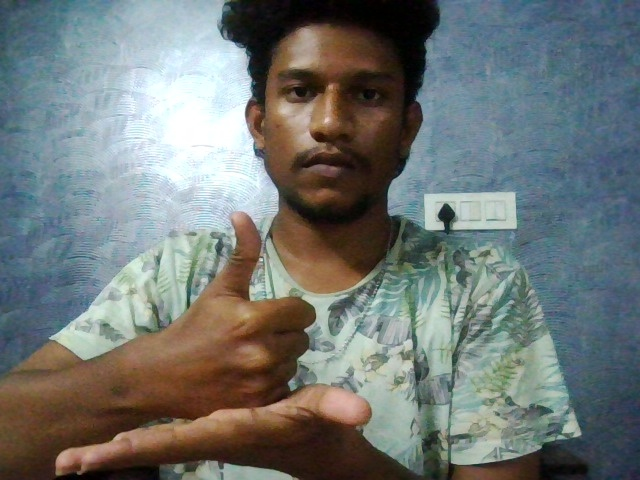help: (26, 200, 405, 468)
